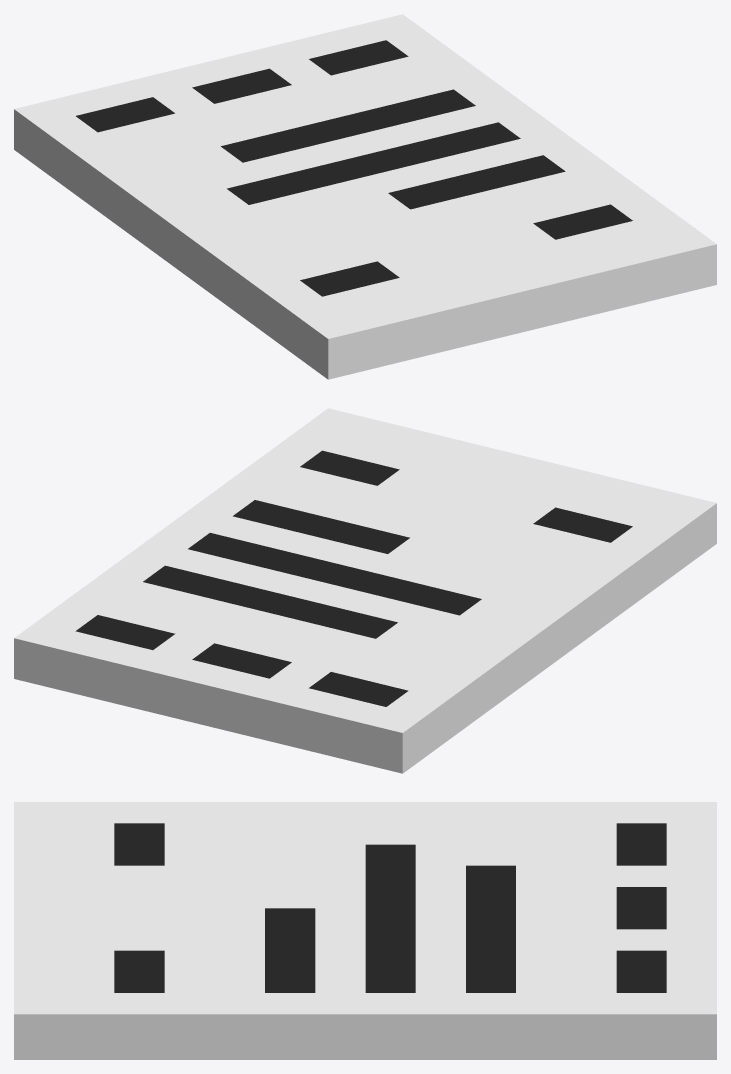
The model's file is paper_02.dae.
3 renders of one model, top to bottom at view 1: azimuth 30°, elevation 25°; view 2: azimuth 150°, elevation 25°; view 3: azimuth 270°, elevation 25°, orthographic. The views are drawn at different scales.
Parts seen in each view (by area): view 1: Untitled; view 2: Untitled; view 3: Untitled.
Boxes of the visible parts, x1,y1,x2,y2 form: Untitled: (14, 14, 716, 379); Untitled: (14, 408, 716, 773); Untitled: (14, 802, 716, 1059).
Size of the model in its own units: 0.3 by 0.42 by 0.03.
1 material, 1 textured.
